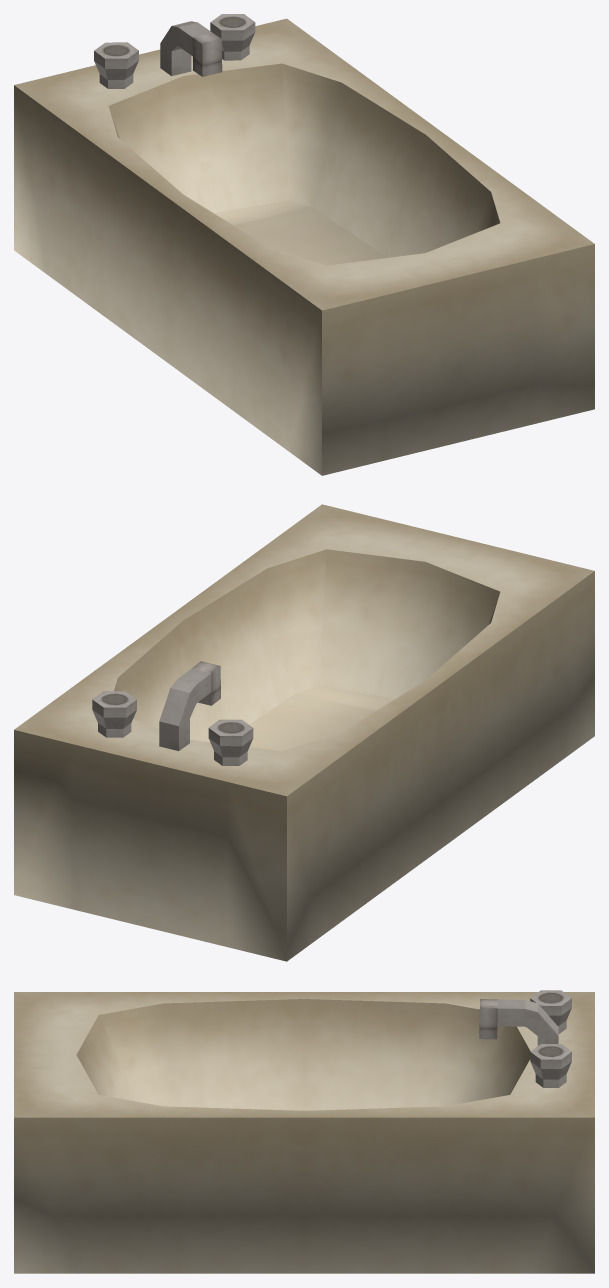
File: Bathtub.fbx
3 renders of one model, top to bottom at view 1: azimuth 30°, elevation 25°; view 2: azimuth 150°, elevation 25°; view 3: azimuth 270°, elevation 25°, orthographic. The views are drawn at different scales.
Parts seen in each view (by area): view 1: Bathtub, BathtubTap, BathtubKnobLeft, BathtubKnobRight; view 2: Bathtub, BathtubTap, BathtubKnobLeft, BathtubKnobRight; view 3: Bathtub, BathtubTap, BathtubKnobRight, BathtubKnobLeft.
Part boxes in pixels (<box>): Bathtub: <box>14,18,594,475</box>; BathtubTap: <box>160,21,222,76</box>; BathtubKnobLeft: <box>94,42,138,88</box>; BathtubKnobRight: <box>210,14,255,60</box>; Bathtub: <box>14,504,594,961</box>; BathtubTap: <box>159,661,220,750</box>; BathtubKnobLeft: <box>208,719,253,765</box>; BathtubKnobRight: <box>92,691,136,737</box>; Bathtub: <box>14,992,594,1273</box>; BathtubTap: <box>479,999,558,1045</box>; BathtubKnobRight: <box>530,1044,571,1087</box>; BathtubKnobLeft: <box>530,990,571,1033</box>.
Size of the model in its own units: 290 by 568 by 224.
